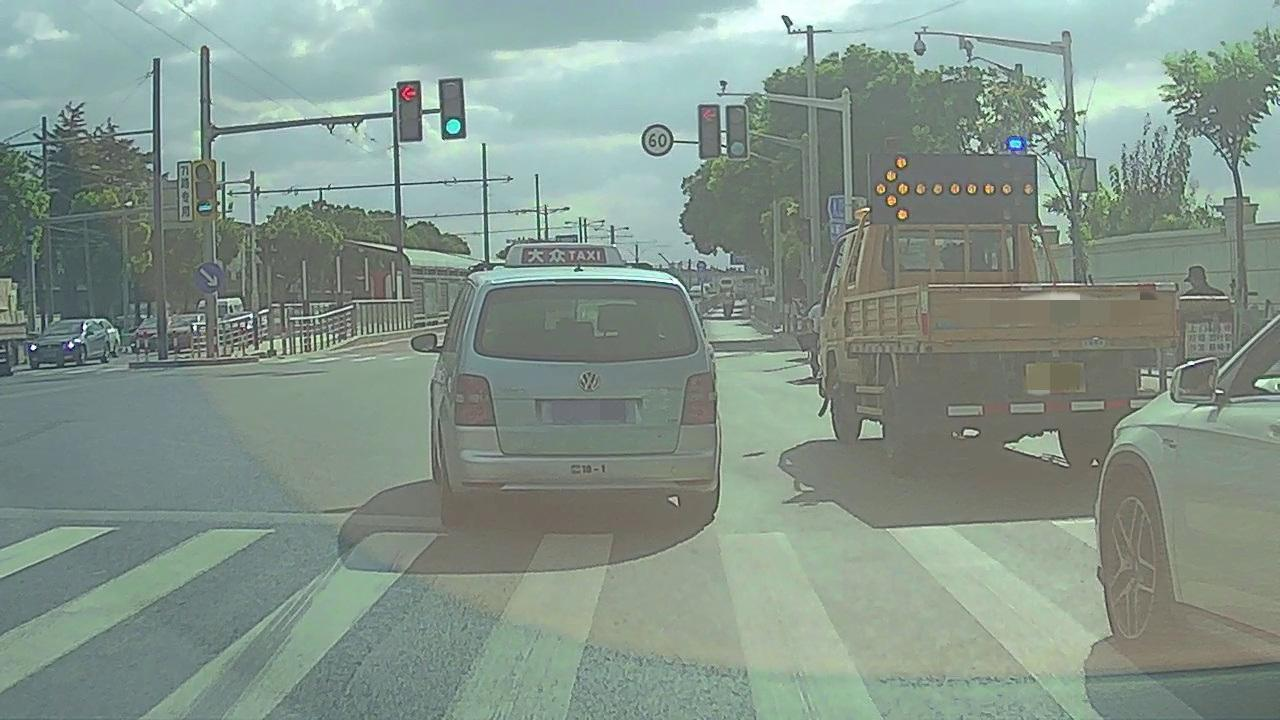traffic_light: (439, 80, 465, 137), (398, 83, 420, 140), (727, 107, 747, 158), (700, 106, 719, 157)
